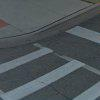Crosswalk: (8, 50, 100, 96)
